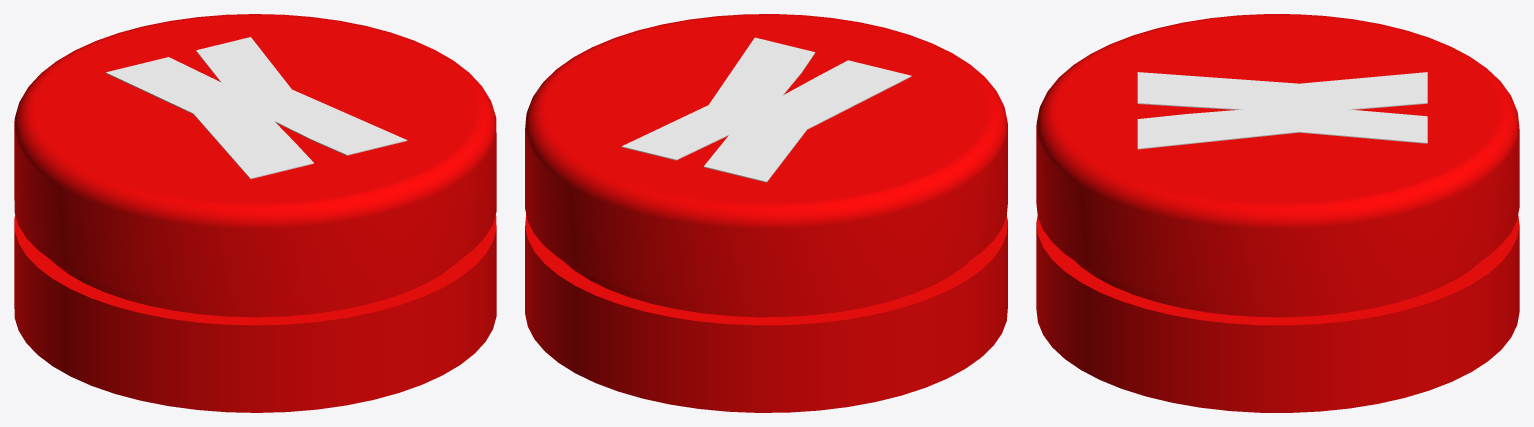
File: nubot_frame10_red.dae
3 views of the same model, side by side, from view 1: azimuth 30°, elevation 25°; view 2: azimuth 150°, elevation 25°; view 3: azimuth 270°, elevation 25° (orthographic).
Visible parts, largest first — view 1: SketchUp (×3), X; view 2: SketchUp (×3), X; view 3: SketchUp (×3), X.
Boxes of the visible parts, x1,y1,x2,y2 form: SketchUp (×3): (14, 14, 496, 412); X: (105, 37, 407, 179); SketchUp (×3): (525, 14, 1007, 412); X: (621, 37, 911, 182); SketchUp (×3): (1036, 14, 1519, 412); X: (1137, 72, 1427, 149).
Bounding box in the file's own units: 19.66 × 19.68 × 9.09.
